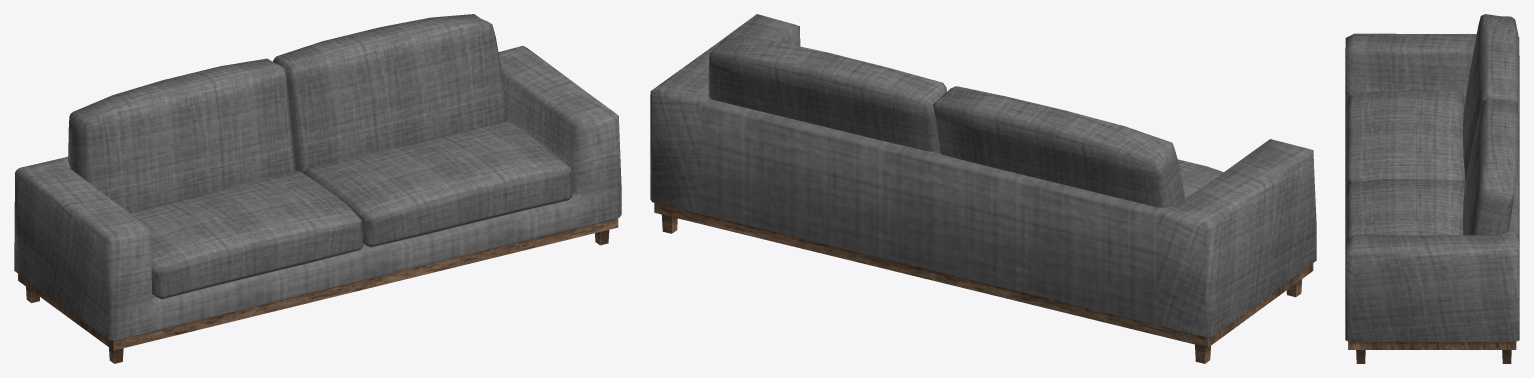
File: sofa.glb
3 renders of one model, left to right at view 1: azimuth 30°, elevation 25°; view 2: azimuth 150°, elevation 25°; view 3: azimuth 270°, elevation 25°, orthographic. The views are drawn at different scales.
Parts seen in each view (by area): view 1: Cube.003; view 2: Cube.003; view 3: Cube.003.
Part boxes in pixels (box(x1,y1,x2,y2)): Cube.003: box(14, 14, 621, 363); Cube.003: box(650, 14, 1316, 363); Cube.003: box(1345, 14, 1519, 363).
Size of the model in its own units: 6.1 by 2.13 by 2.04.
Materials: 1 (1 with a texture image).
